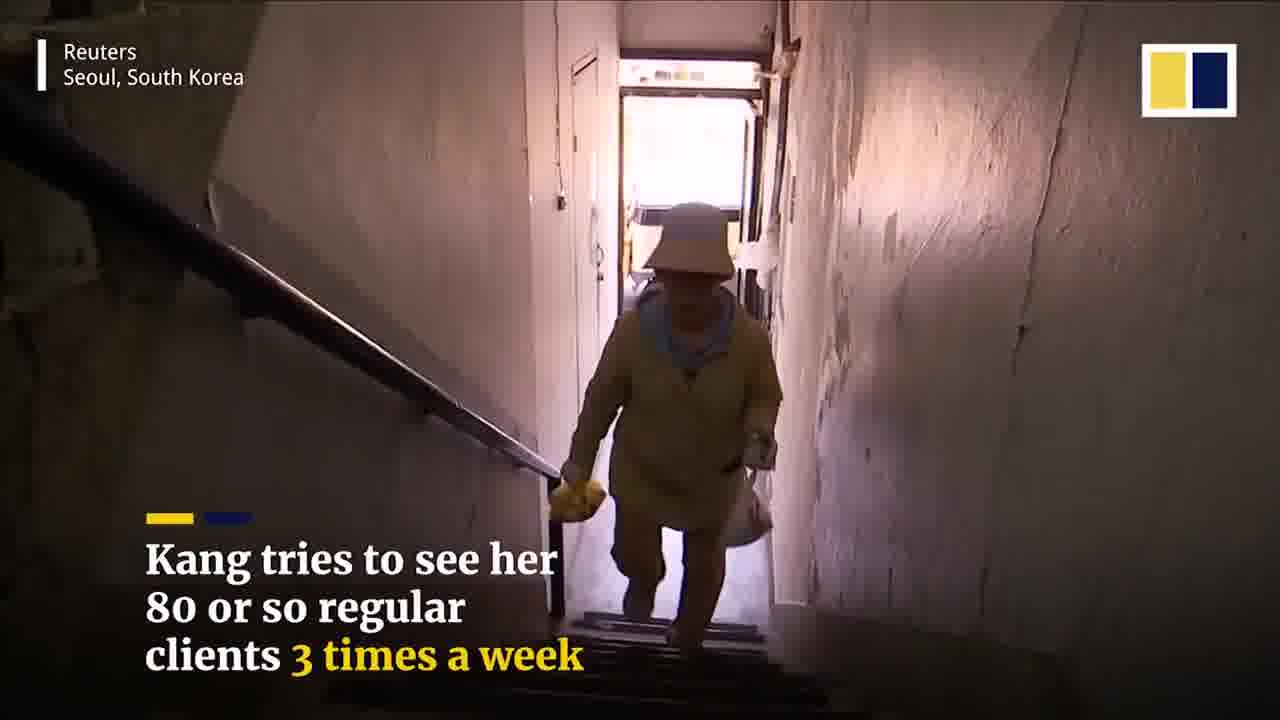Yakurut: (548, 201, 815, 653)
